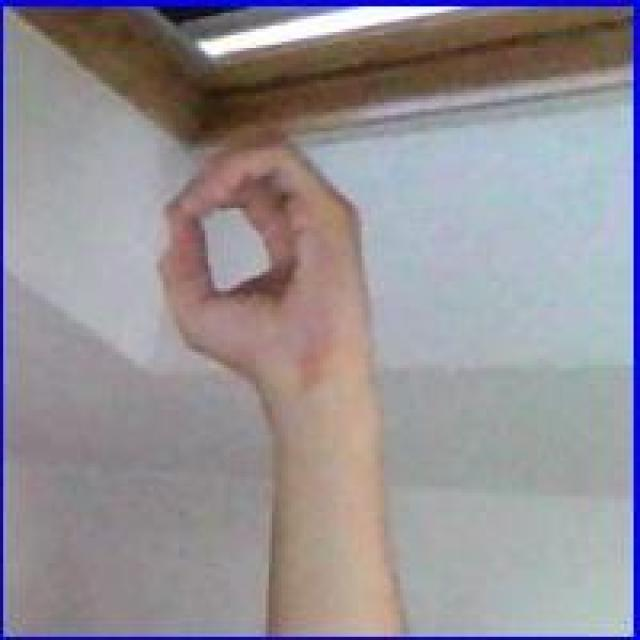O: (146, 126, 372, 408)
